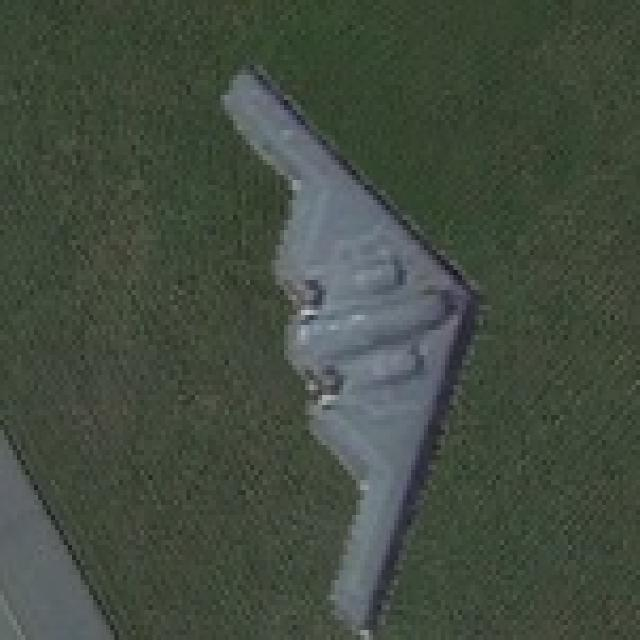B-2_TopDown: (203, 50, 488, 635)
